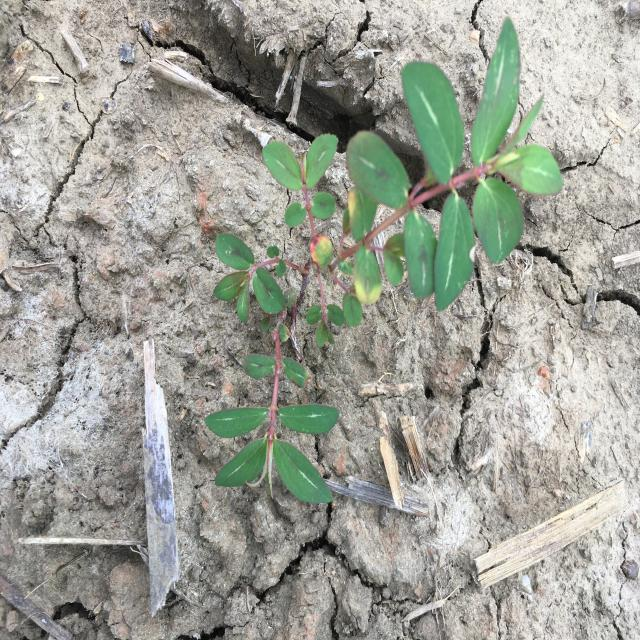SpottedSpurge: (203, 16, 563, 503)
